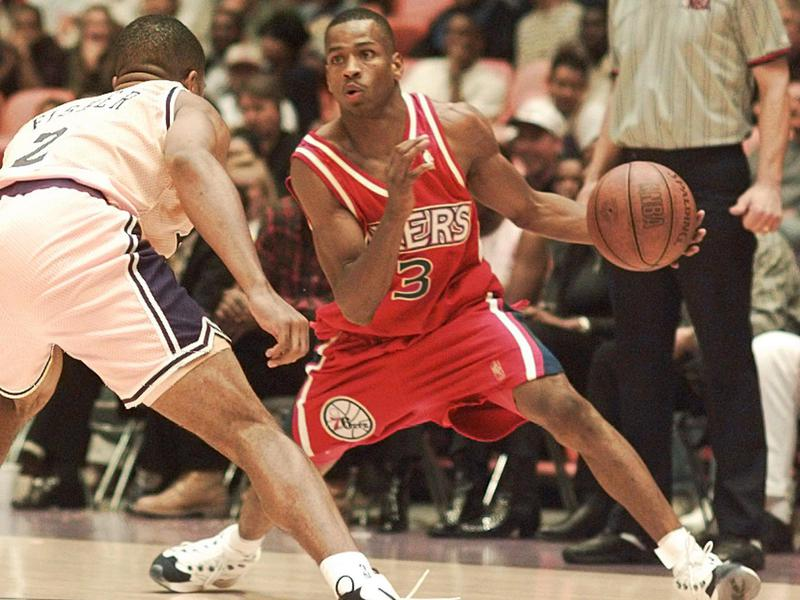b_ball: (585, 155, 708, 278)
face: (310, 11, 441, 111)
player: (128, 1, 760, 600), (2, 3, 399, 600)
